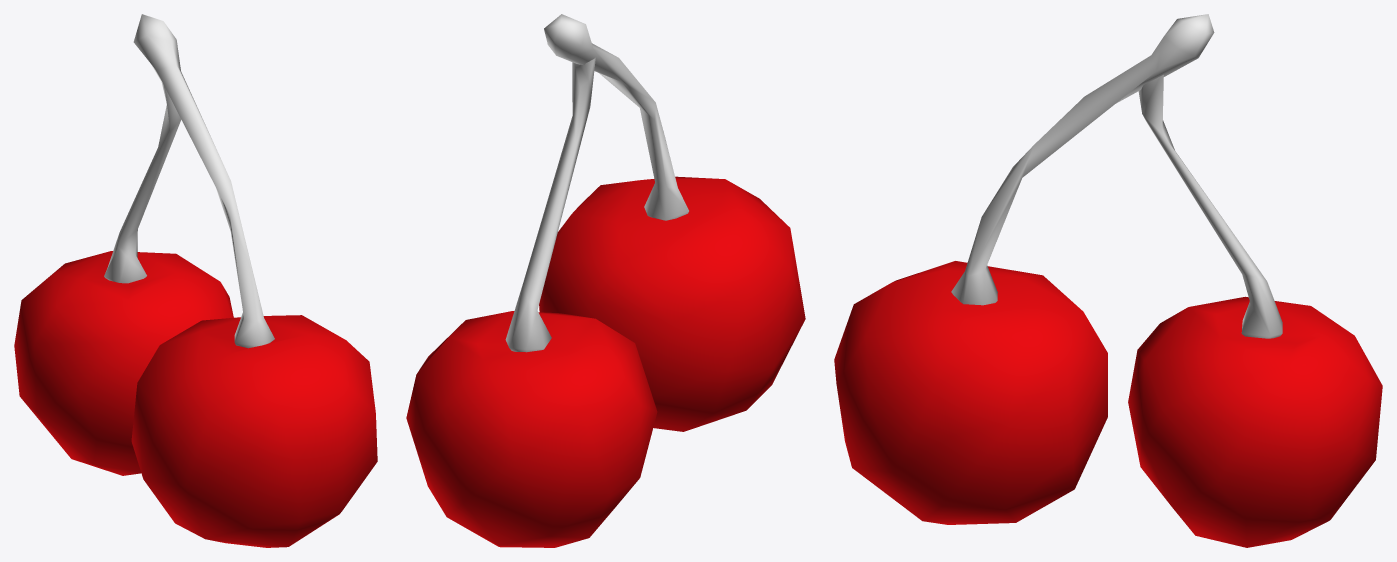
The model's file is Kirsche_Neu.fbx.
The picture shows the model from 3 angles, left to right: view 1: azimuth 30°, elevation 25°; view 2: azimuth 150°, elevation 25°; view 3: azimuth 270°, elevation 25°; orthographic projection. The views are drawn at different scales.
Visible parts, largest first — view 1: Sphere.003_Sphere.006; view 2: Sphere.003_Sphere.006; view 3: Sphere.003_Sphere.006.
Part boxes in pixels (x1,y1,x2,y2): Sphere.003_Sphere.006: (14, 14, 377, 547); Sphere.003_Sphere.006: (406, 14, 805, 547); Sphere.003_Sphere.006: (834, 14, 1382, 547).
Size of the model in its own units: 67.01 by 140 by 135.
